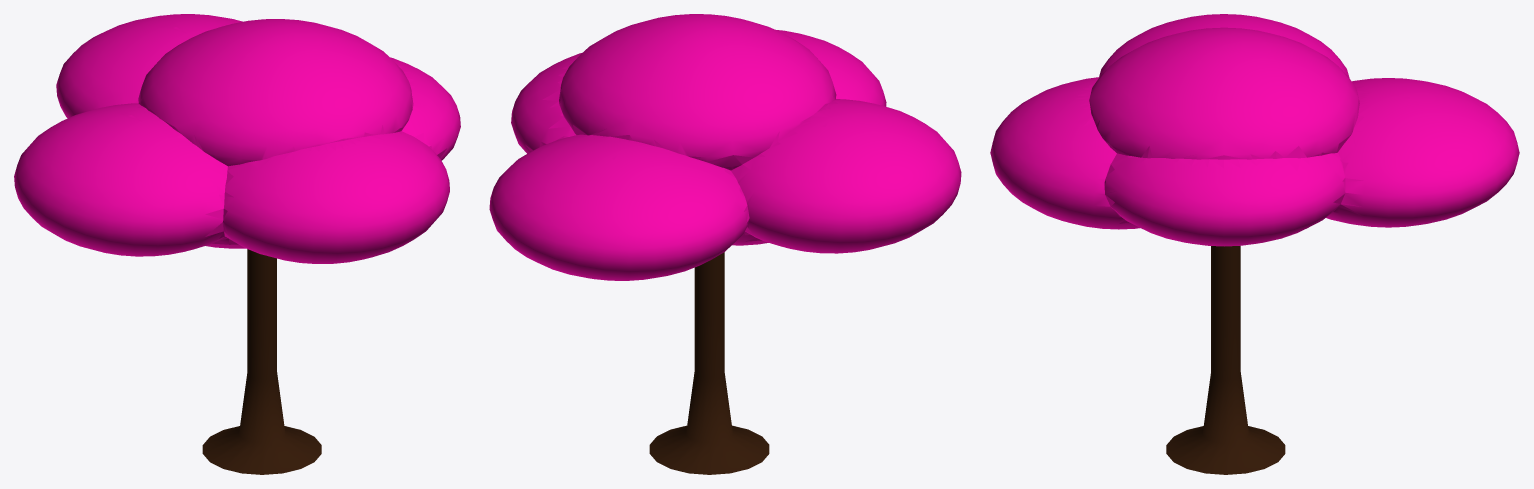
The model's file is tree5.FBX.
The picture shows the model from 3 angles, left to right: view 1: azimuth 30°, elevation 25°; view 2: azimuth 150°, elevation 25°; view 3: azimuth 270°, elevation 25°; orthographic projection.
Visible parts, largest first — view 1: tree1; view 2: tree1; view 3: tree1.
Boxes of the visible parts, x1,y1,x2,y2 form: tree1: (14, 14, 460, 474); tree1: (489, 14, 961, 474); tree1: (990, 14, 1519, 474).
Size of the model in its own units: 48.19 by 45.8 by 53.53.
